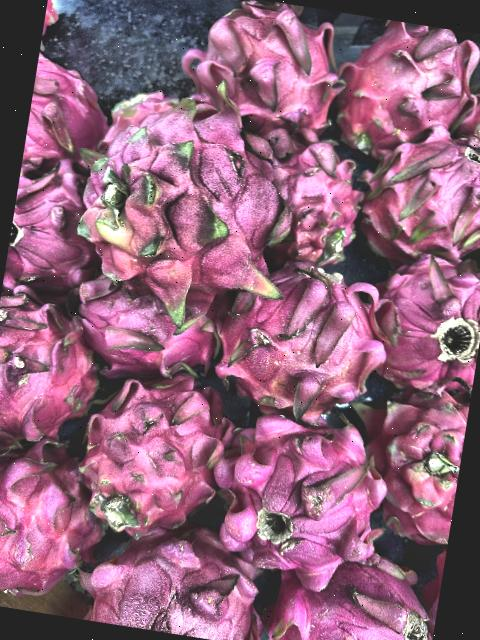buah-naga-matang: (69, 72, 313, 318), (212, 400, 400, 586), (219, 252, 396, 428), (71, 366, 232, 546), (170, 0, 355, 154), (338, 361, 474, 554), (74, 526, 276, 640), (59, 256, 230, 380), (335, 14, 480, 156), (0, 434, 115, 608), (0, 281, 107, 456), (361, 245, 480, 402), (259, 125, 376, 278), (261, 542, 443, 640), (363, 117, 480, 267), (4, 155, 110, 297), (23, 42, 120, 168), (455, 69, 480, 159)
